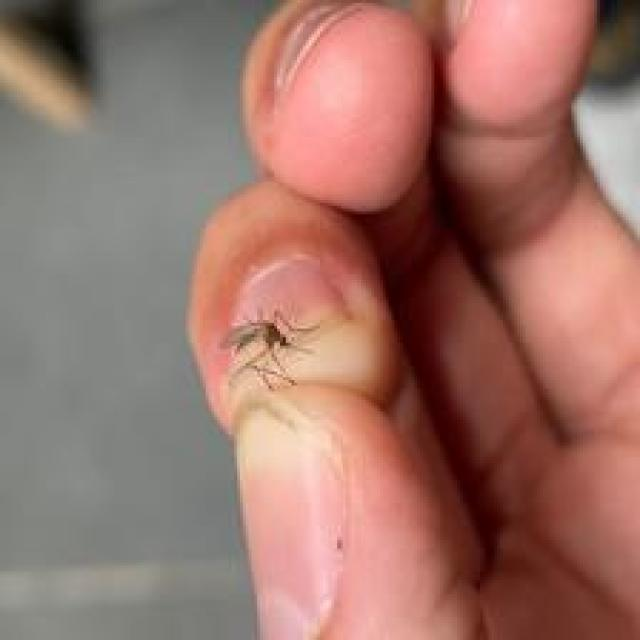Culex: (218, 307, 322, 393)
